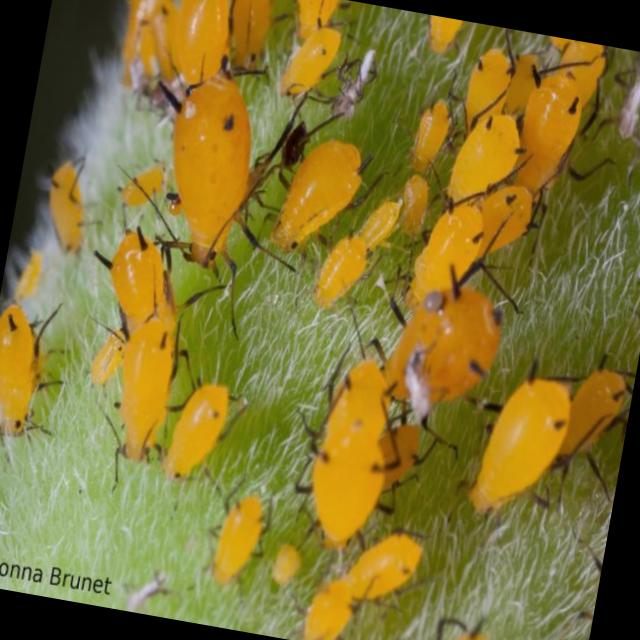Aphids: (130, 30, 287, 299), (276, 335, 426, 568), (450, 338, 588, 554), (84, 294, 200, 476), (256, 120, 380, 274), (388, 180, 510, 328), (150, 365, 259, 504), (84, 228, 190, 358), (434, 100, 535, 218), (508, 68, 590, 200), (0, 296, 63, 461), (553, 340, 631, 472), (152, 0, 248, 98), (203, 472, 280, 594), (340, 531, 430, 618), (34, 154, 98, 257), (277, 11, 343, 109), (296, 571, 360, 640), (409, 88, 455, 166), (394, 164, 440, 238)
